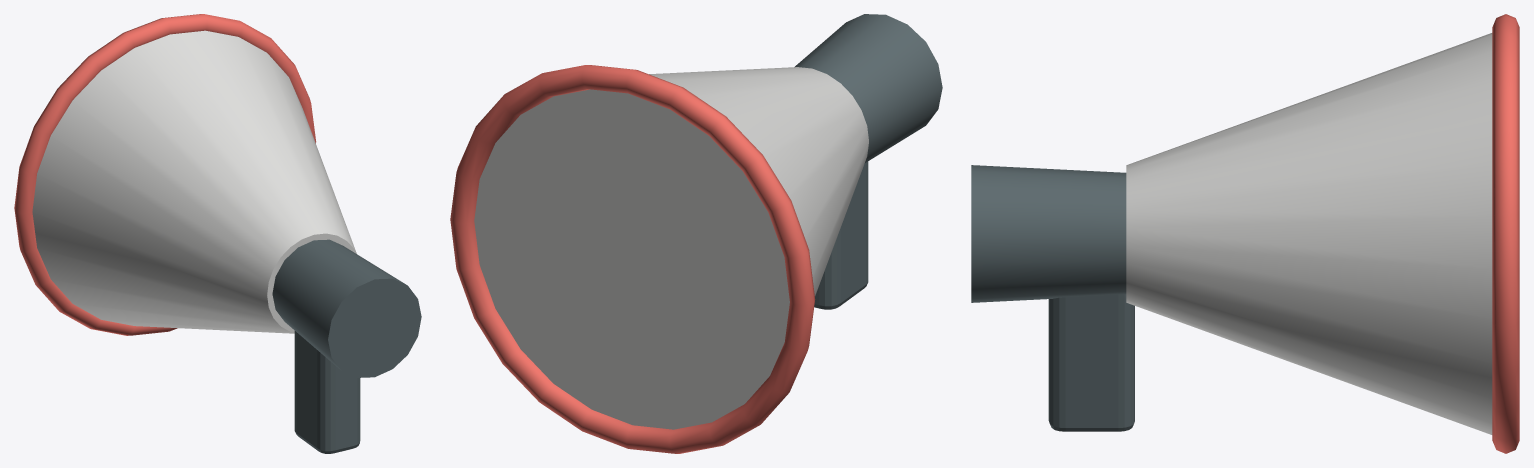
The model's file is item_megafon.glb.
The picture shows the model from 3 angles, left to right: view 1: azimuth 30°, elevation 25°; view 2: azimuth 150°, elevation 25°; view 3: azimuth 270°, elevation 25°; orthographic projection. The views are drawn at different scales.
Visible parts, largest first — view 1: megafon; view 2: megafon; view 3: megafon.
Part boxes in pixels (x1,y1,x2,y2): megafon: (14, 14, 421, 453); megafon: (450, 14, 942, 453); megafon: (971, 14, 1519, 453).
Bounding box in the file's own units: 0.256 × 0.256 × 0.318.
